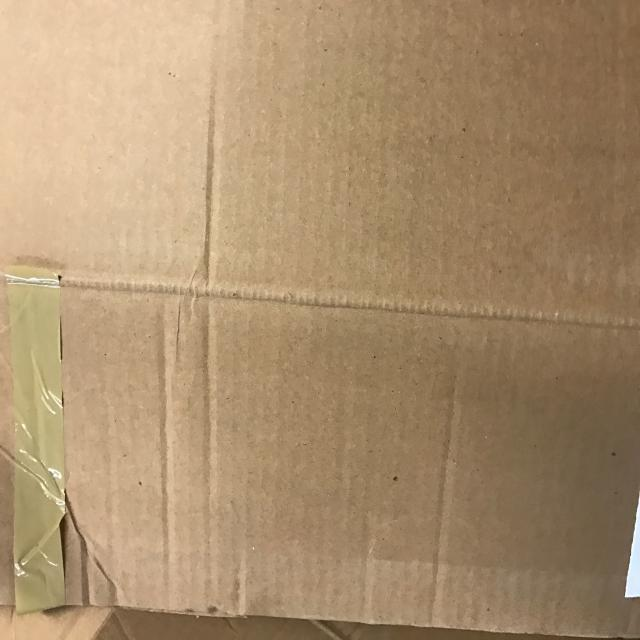cardboard: (2, 1, 639, 635)
